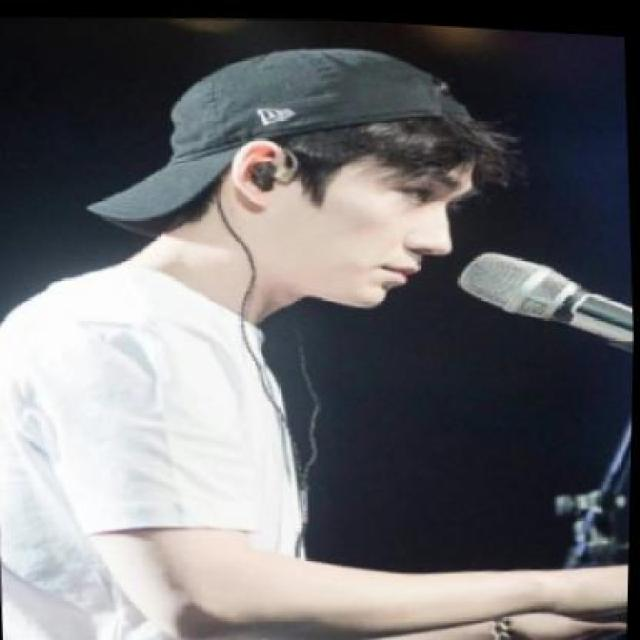hat: (70, 17, 499, 268)
